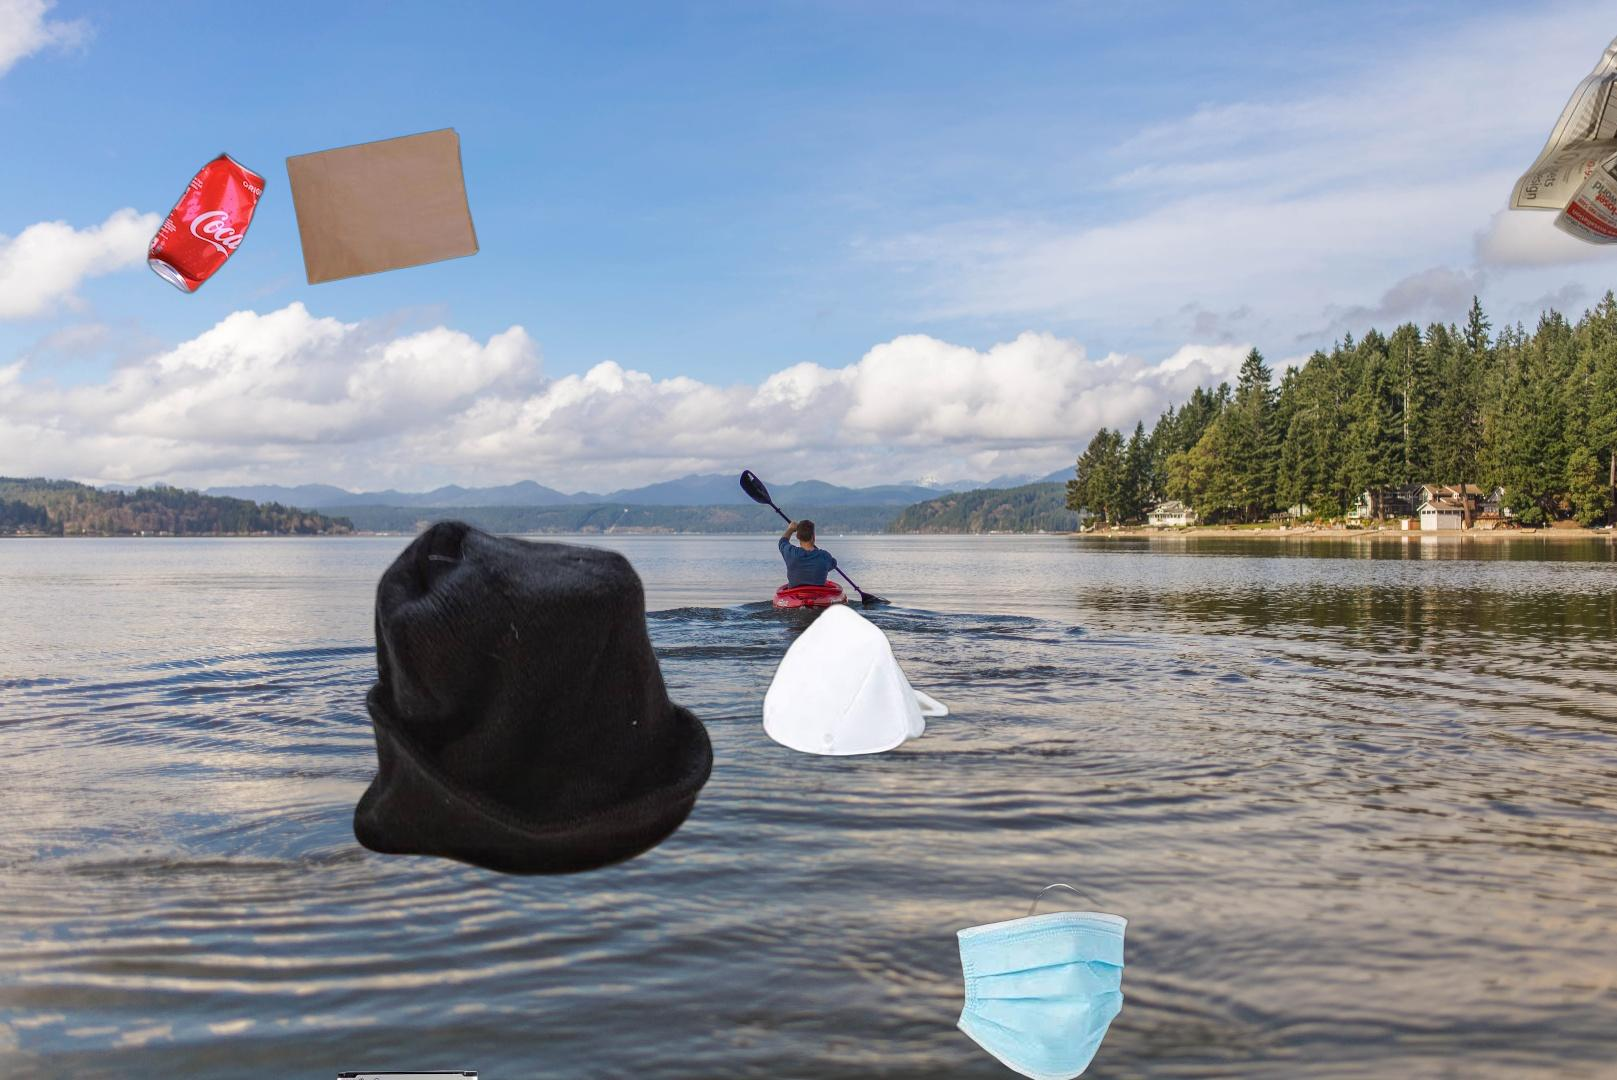battery: (334, 1067, 486, 1080)
clothes: (350, 516, 718, 880)
metal-cans: (144, 147, 270, 300)
paper: (1506, 26, 1617, 251)
paper-bag: (283, 126, 482, 288)
trash: (953, 881, 1132, 1080), (758, 602, 952, 759)
